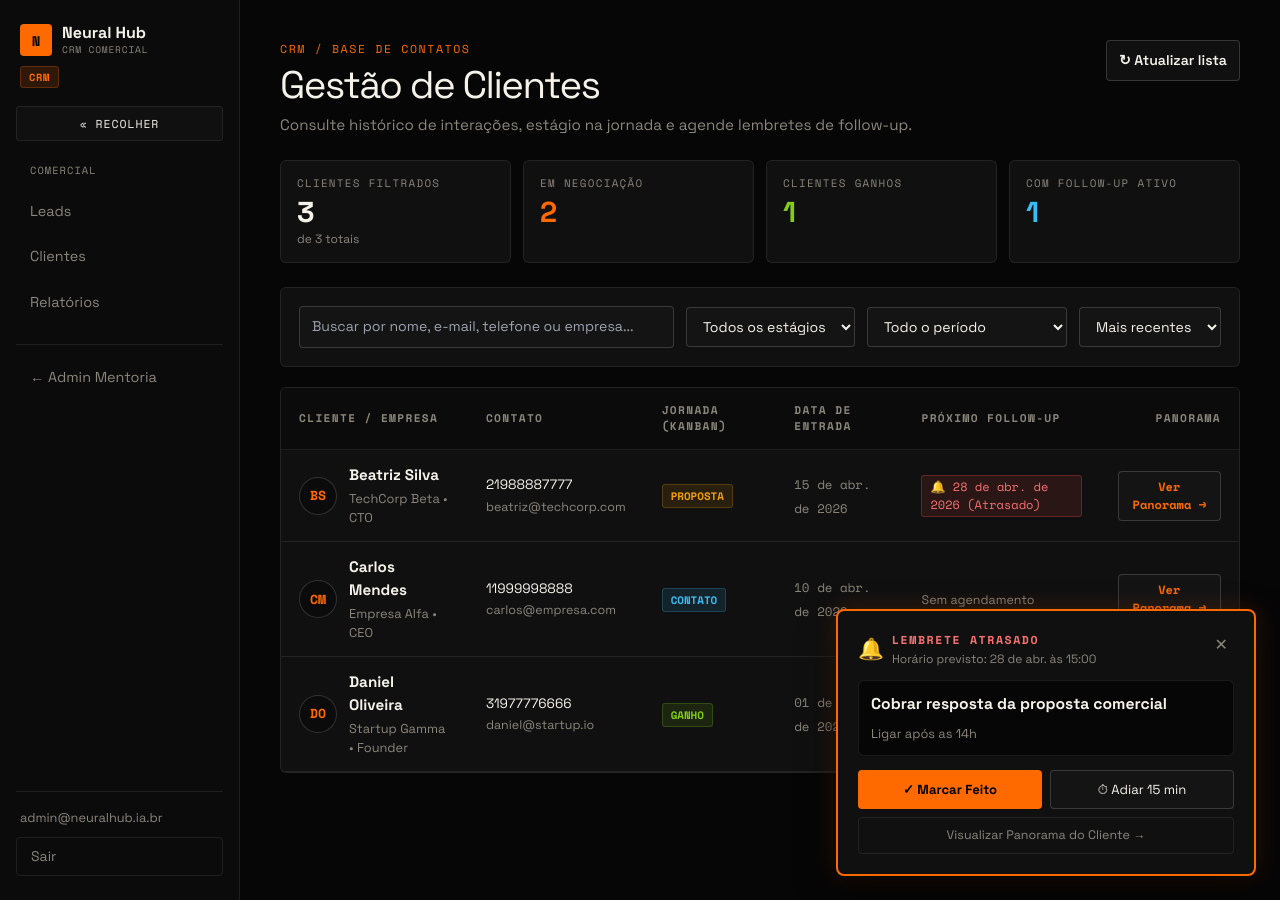
Test: CrmClientesPage › filters clients by search input
Expected: the text "Carlos Mendes" is shown, 349,557 -> 407,599
In the search field with placeholder "Buscar por nome, e-mail, telefone ou empresa...": [486, 327] box 299,306 -> 674,348, type "Beatriz"
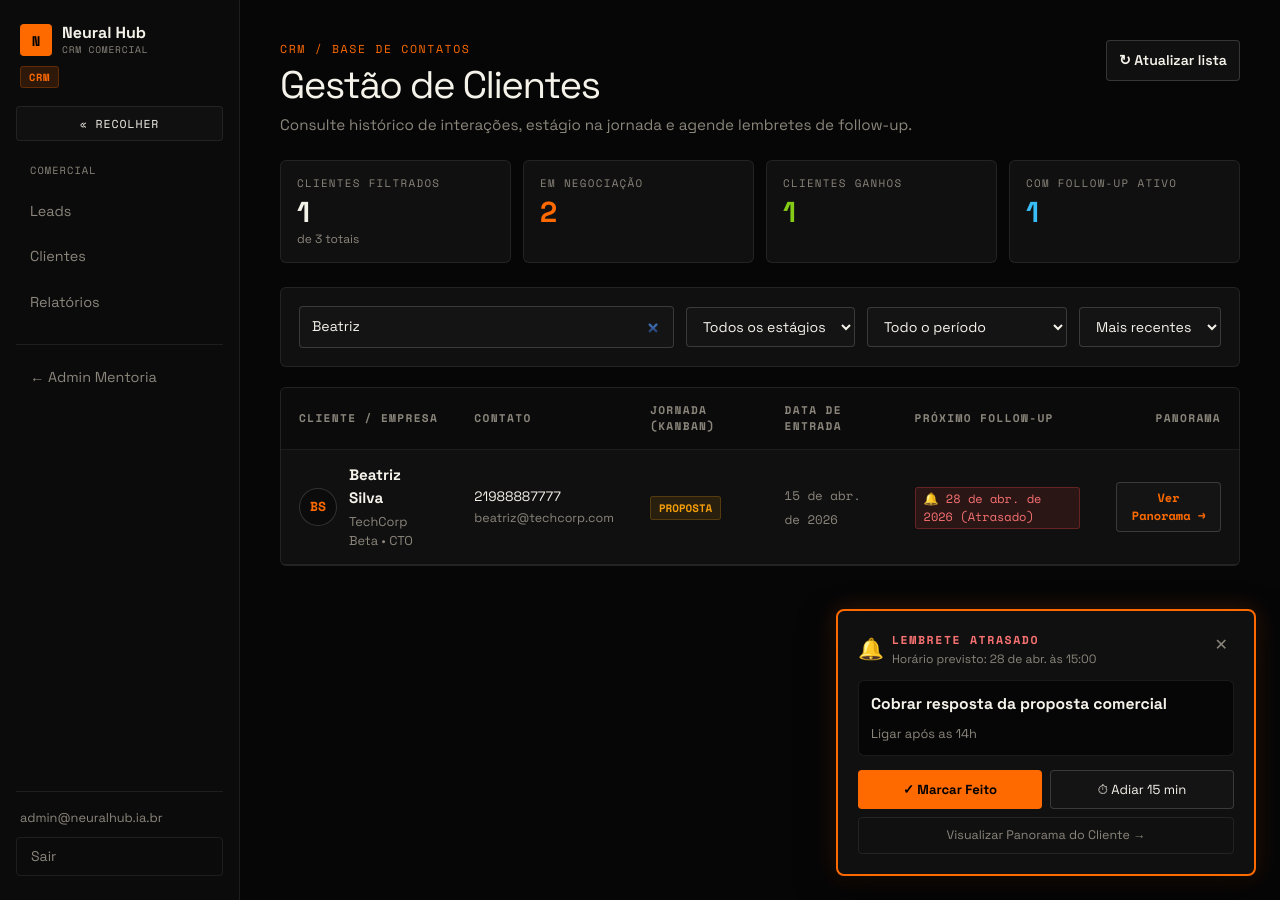
Expected: the text "Beatriz Silva" is shown, 349,465 -> 401,507
Now the text "Carlos Mendes" is gone
Now the text "Daniel Oliveira" is gone
